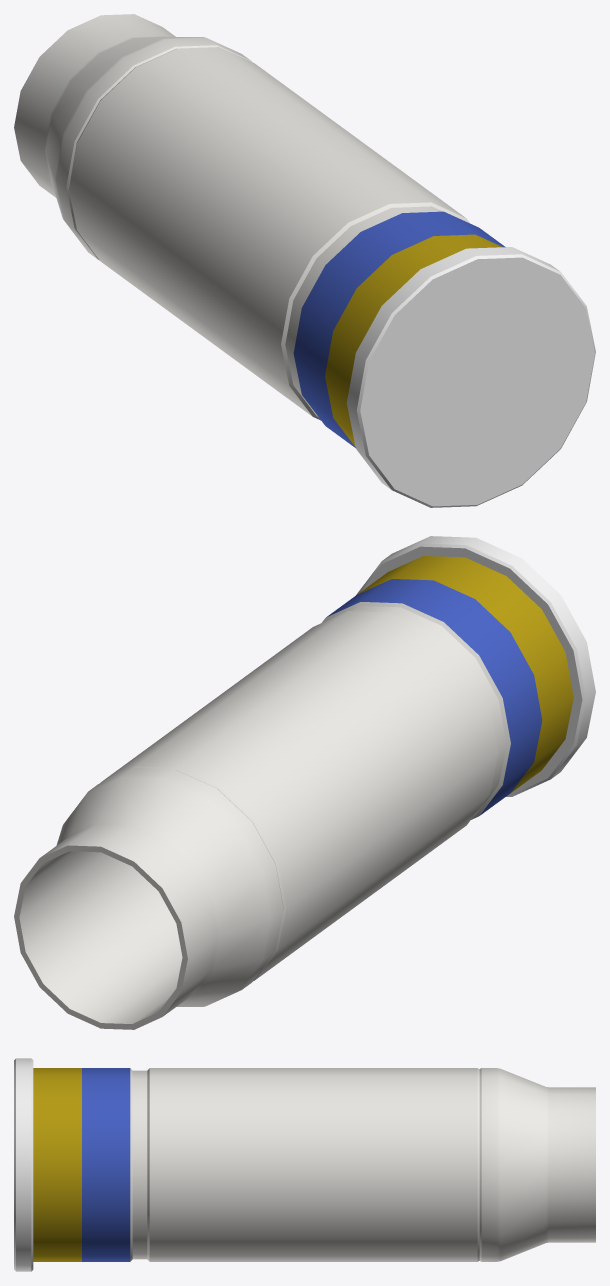
Rendered from M256_empty.fbx.
The picture shows the model from 3 angles, top to bottom: view 1: azimuth 30°, elevation 25°; view 2: azimuth 150°, elevation 25°; view 3: azimuth 270°, elevation 25°; orthographic projection. The views are drawn at different scales.
Visible parts, largest first — view 1: Cylinder; view 2: Cylinder; view 3: Cylinder.
Part boxes in pixels (x1,y1,x2,y2): Cylinder: (14, 14, 595, 507); Cylinder: (14, 536, 595, 1029); Cylinder: (14, 1058, 595, 1271).
Size of the model in its own units: 110 by 110 by 300.
